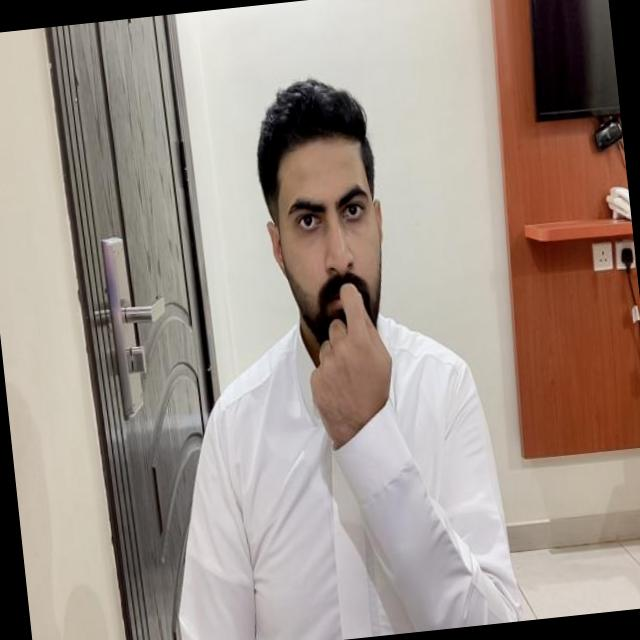medicine: (298, 277, 401, 451)
